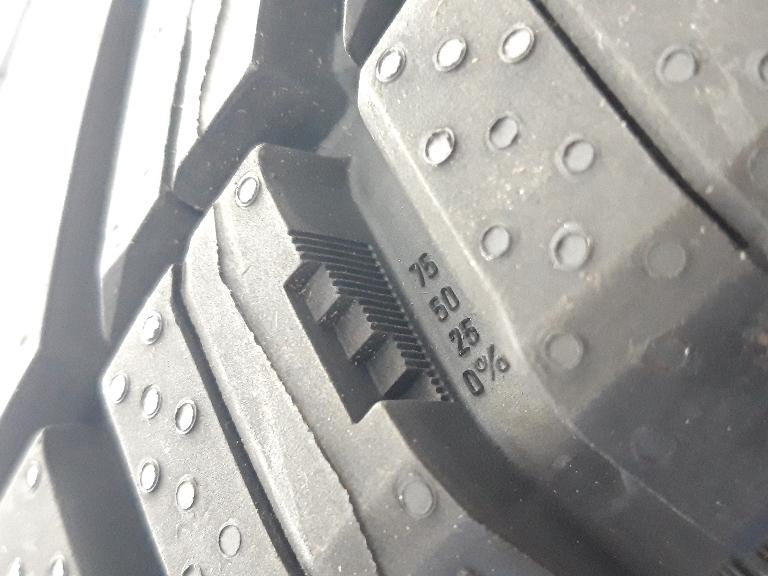temoin:100: (274, 221, 465, 434)
